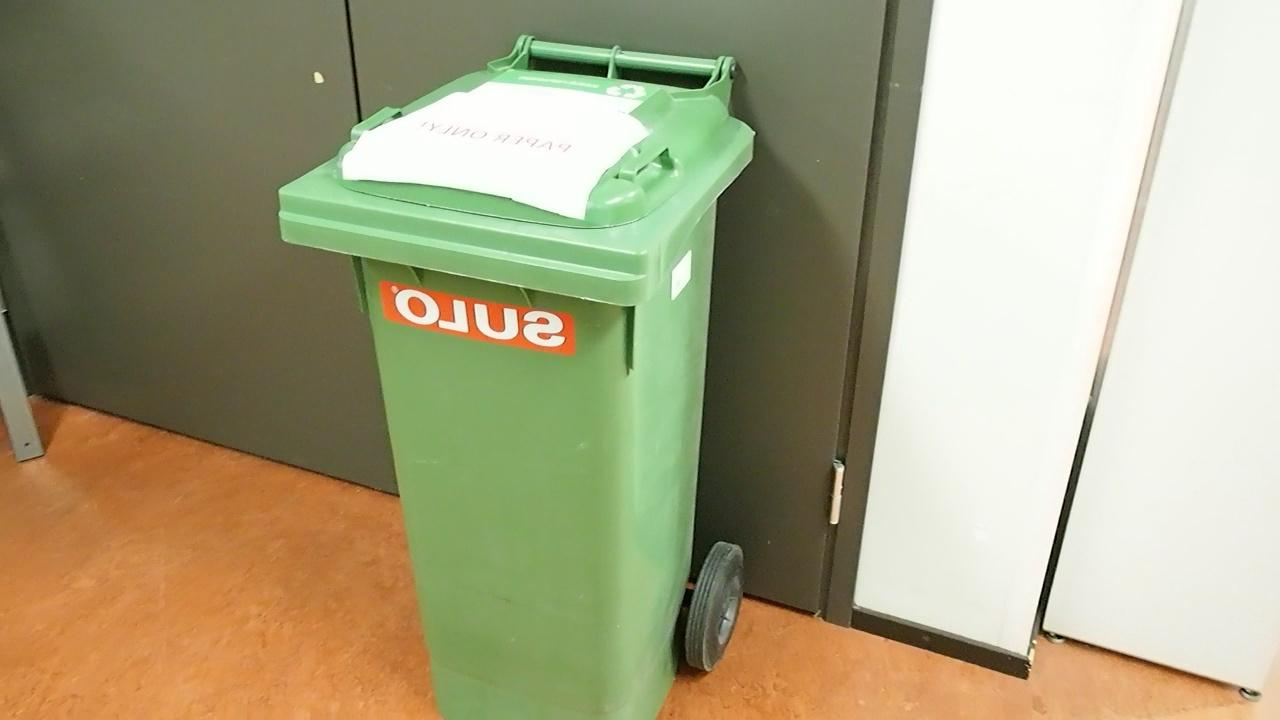trashbin: (286, 28, 765, 710)
